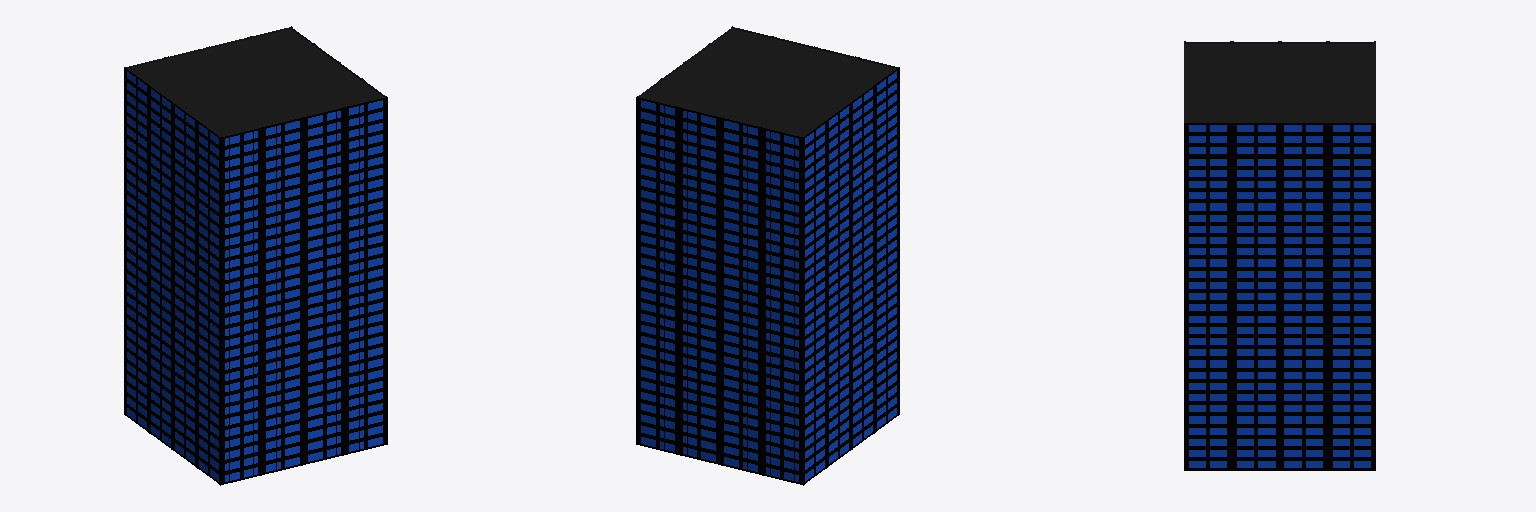
The model's file is high_residential.obj.
3 views of the same model, side by side, from view 1: azimuth 30°, elevation 25°; view 2: azimuth 150°, elevation 25°; view 3: azimuth 270°, elevation 25° (orthographic).
Parts seen in each view (by area): view 1: Cube_Cube.002; view 2: Cube_Cube.002; view 3: Cube_Cube.002.
Part boxes in pixels (left/top/right/bottom): Cube_Cube.002: left=124, top=26, right=387, bottom=485; Cube_Cube.002: left=636, top=26, right=899, bottom=485; Cube_Cube.002: left=1184, top=41, right=1375, bottom=470.
Size of the model in its own units: 2.01 by 4 by 2.01.